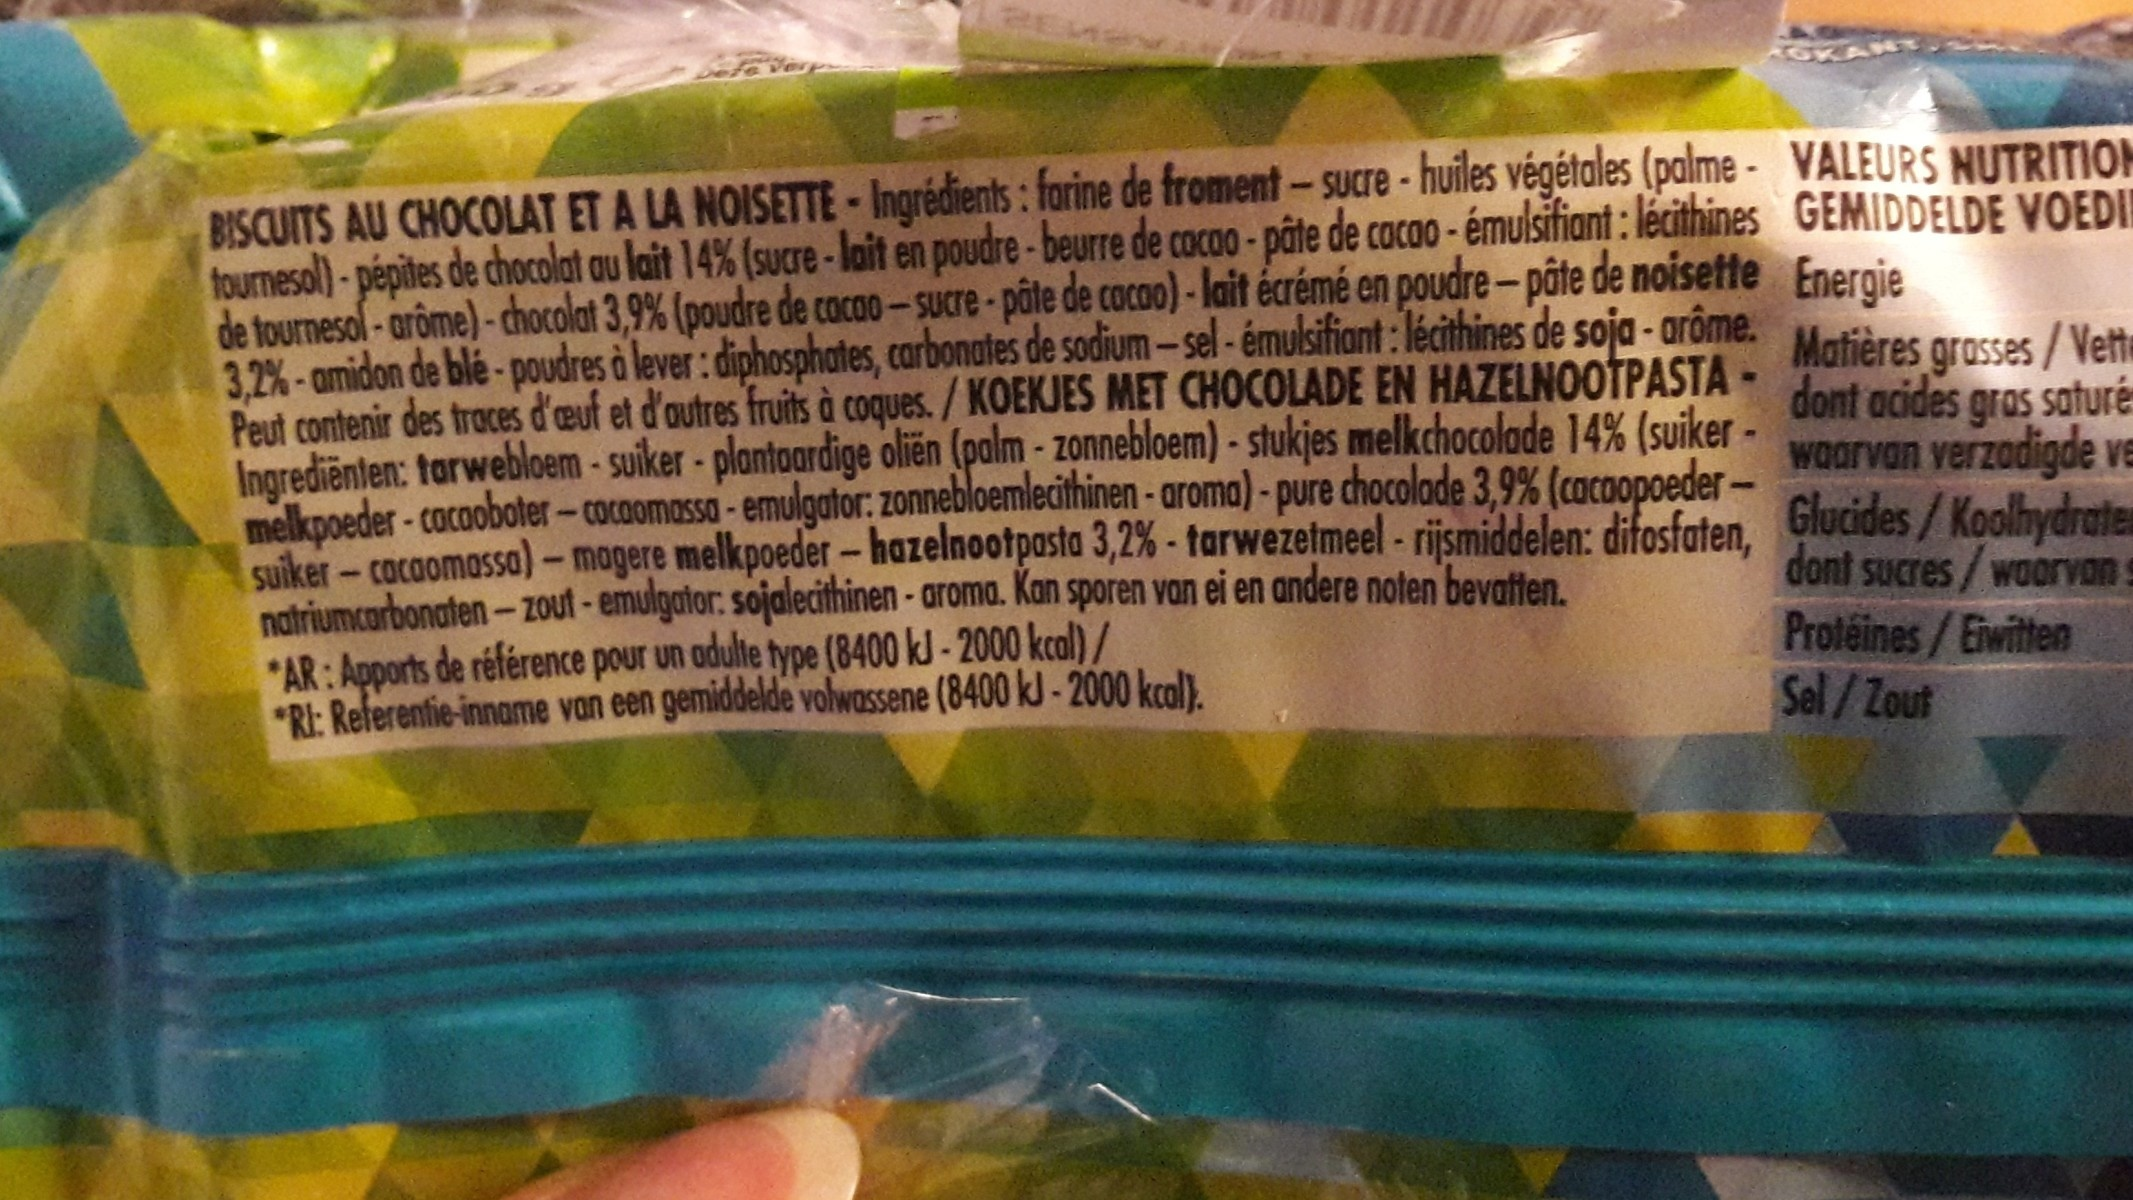ingredients: (185, 415, 1789, 749), (179, 142, 1795, 437)
